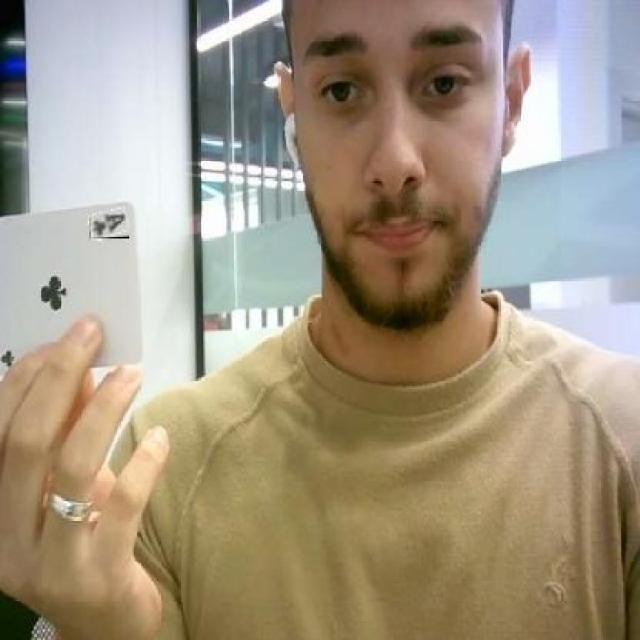AC: (89, 211, 129, 238)
